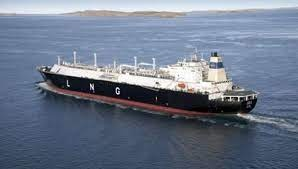Cargoship: (35, 46, 261, 116)
